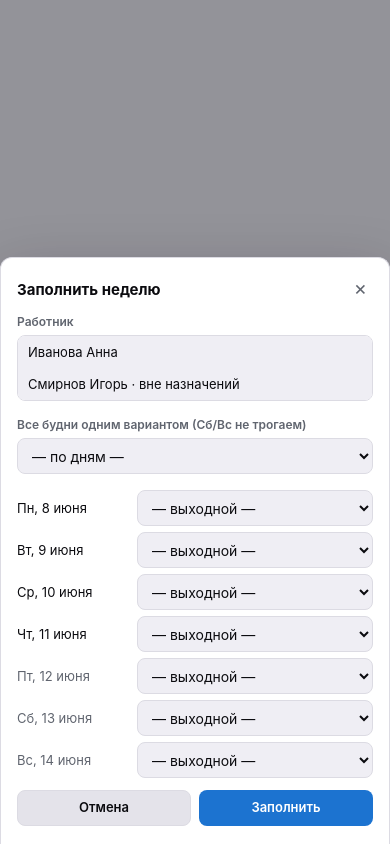
Test: FillWeekPanel (консоль) › отказ сервера остаётся в панели
The image size is (390, 844).
Click the button "Иванова Анна": (73, 352) 18,336 -> 372,368
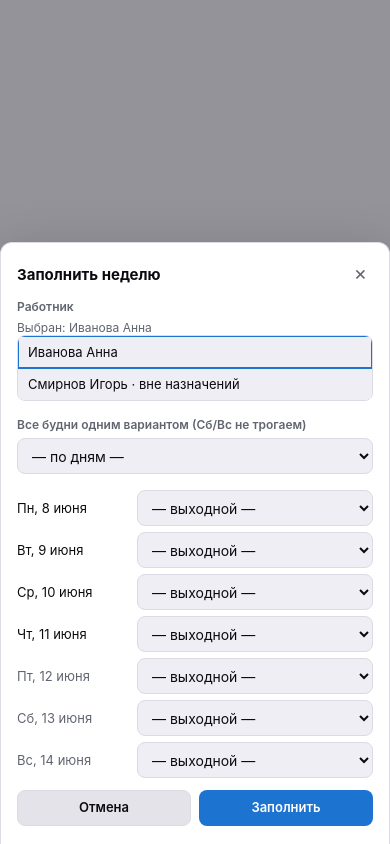
Select "День · 09:00–18:00" in the dropdown labelled "Вт, 9 июня": (255, 550) 137,532 -> 373,568
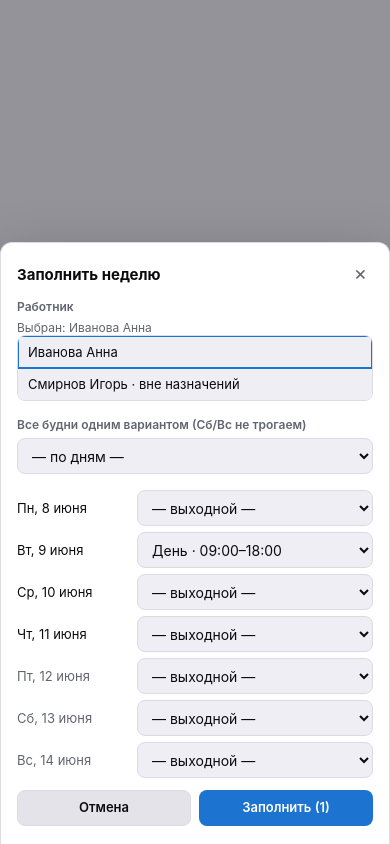
Click the button "Заполнить (1)": (286, 808) 199,790 -> 373,826
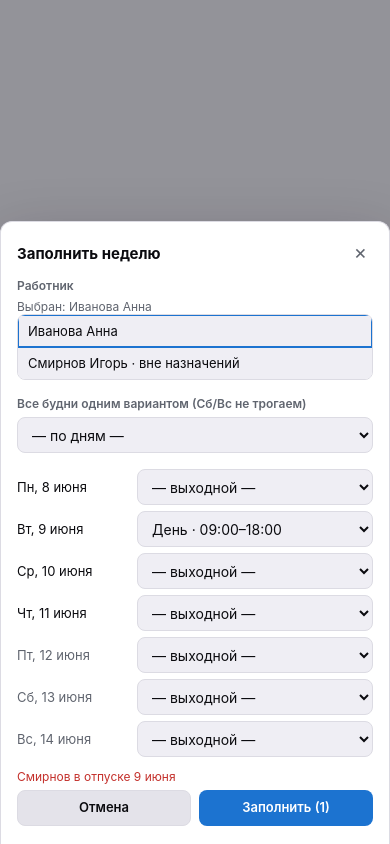
Result: the text "Смирнов в отпуске 9 июня" is shown at 17,769 -> 176,784
